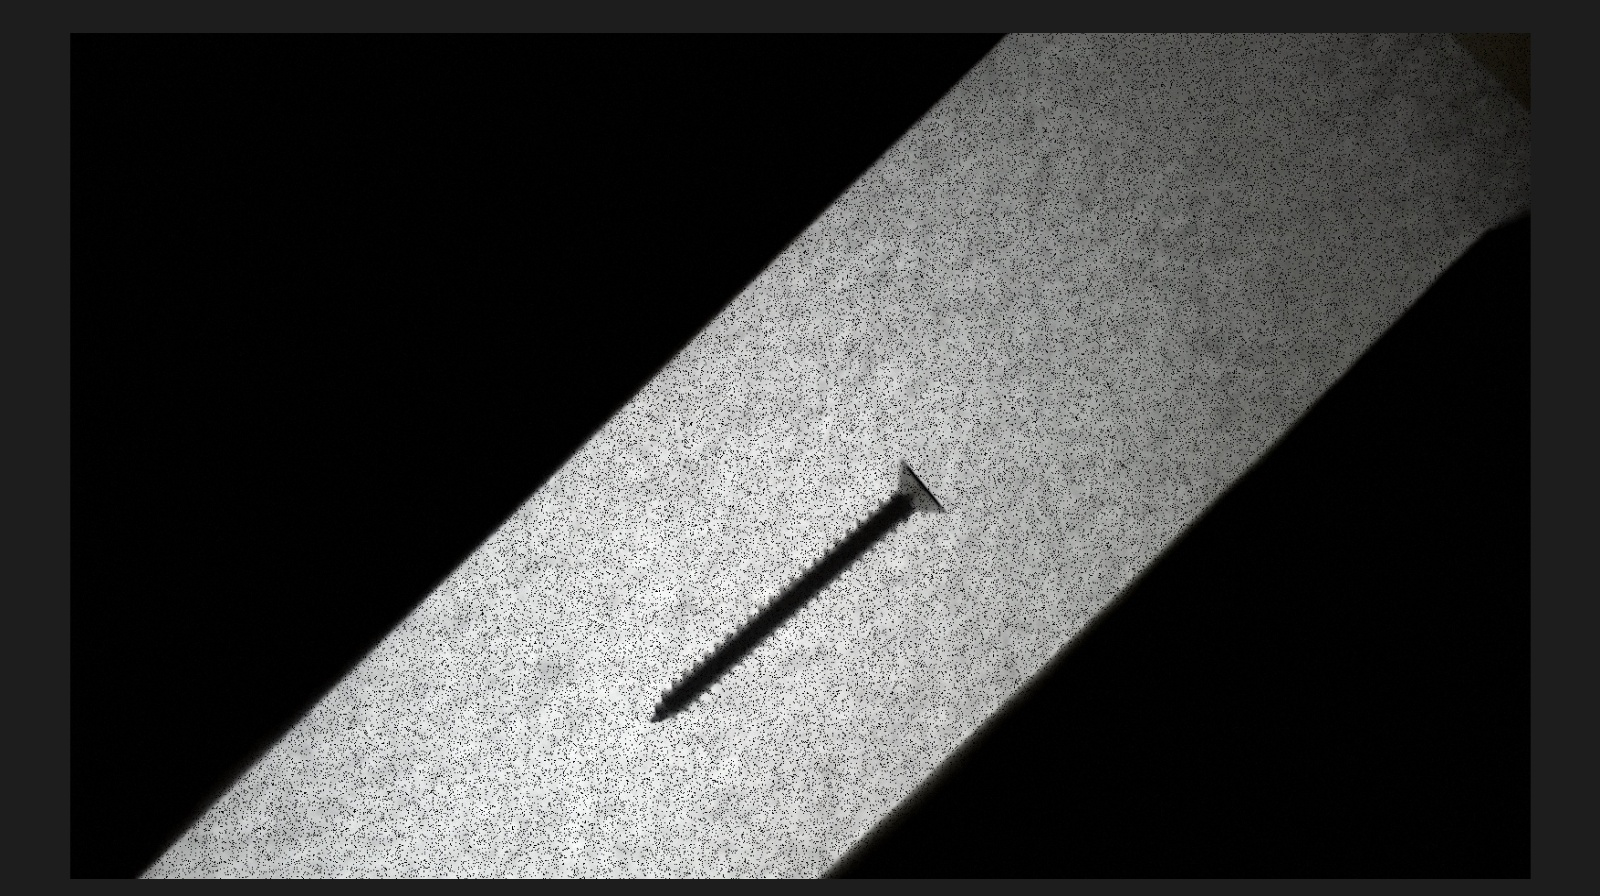S002: (631, 449, 960, 748)
